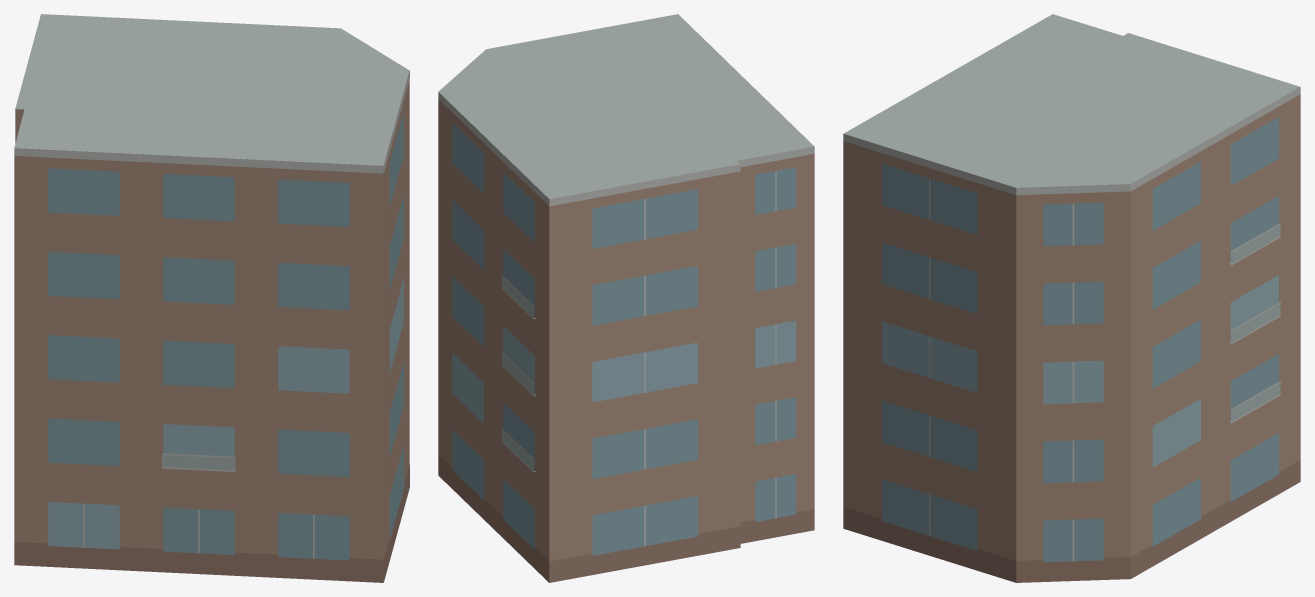
File: survey-upis-32709072.glb
3 views of the same model, side by side, from view 1: azimuth 30°, elevation 25°; view 2: azimuth 150°, elevation 25°; view 3: azimuth 270°, elevation 25° (orthographic). The views are drawn at different scales.
Parts seen in each view (by area): view 1: survey-upis-32709072.tmp; view 2: survey-upis-32709072.tmp; view 3: survey-upis-32709072.tmp.
Boxes of the visible parts, box(x1,y1,x2,y2) form: survey-upis-32709072.tmp: box(14, 14, 409, 582); survey-upis-32709072.tmp: box(438, 14, 814, 582); survey-upis-32709072.tmp: box(843, 14, 1300, 582).
Bounding box in the file's own units: 12.38 × 13.1 × 13.75.
